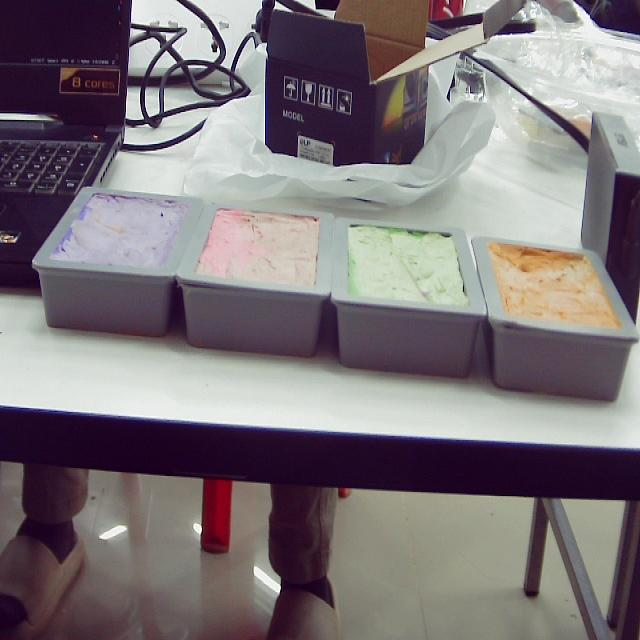block: (468, 239, 640, 399), (30, 187, 206, 338), (172, 201, 336, 357), (328, 220, 486, 378)
